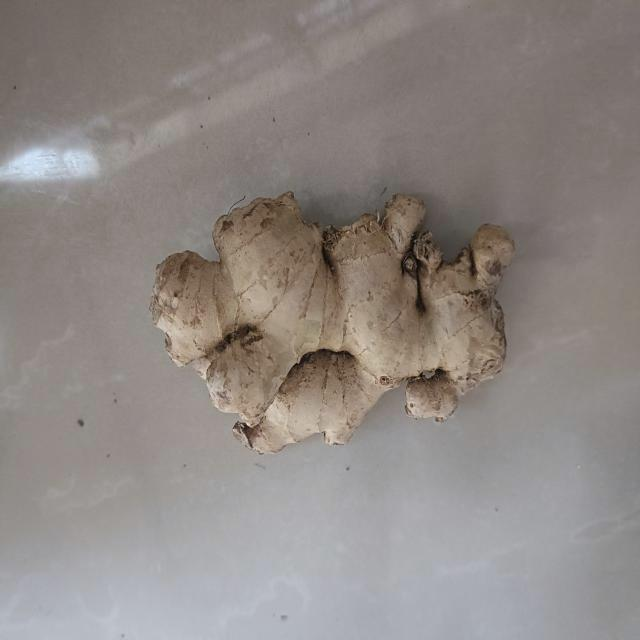ginger: (155, 193, 516, 452)
